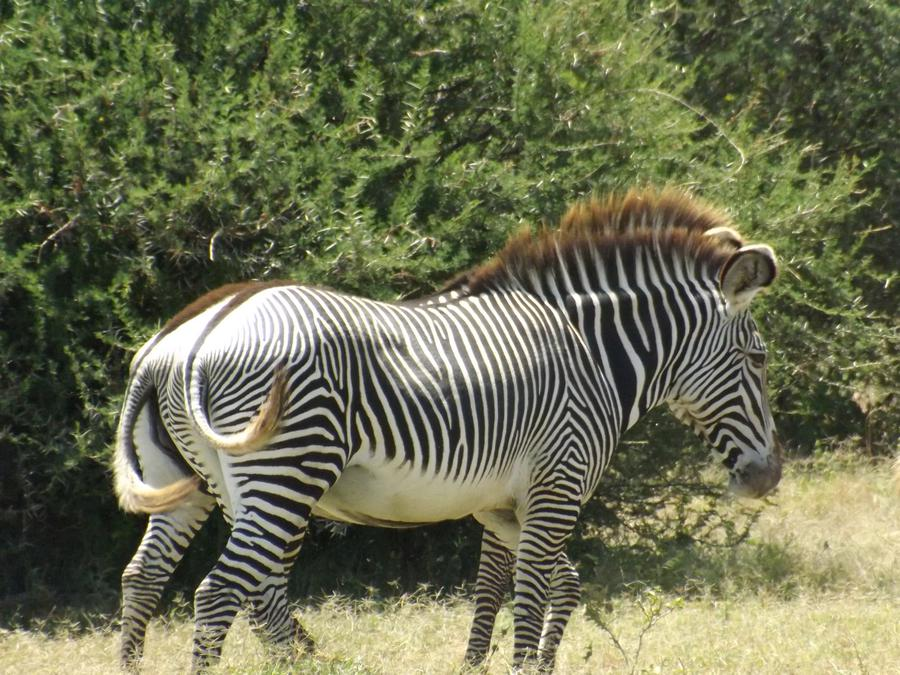zebra_grevys: (192, 294, 585, 507)
